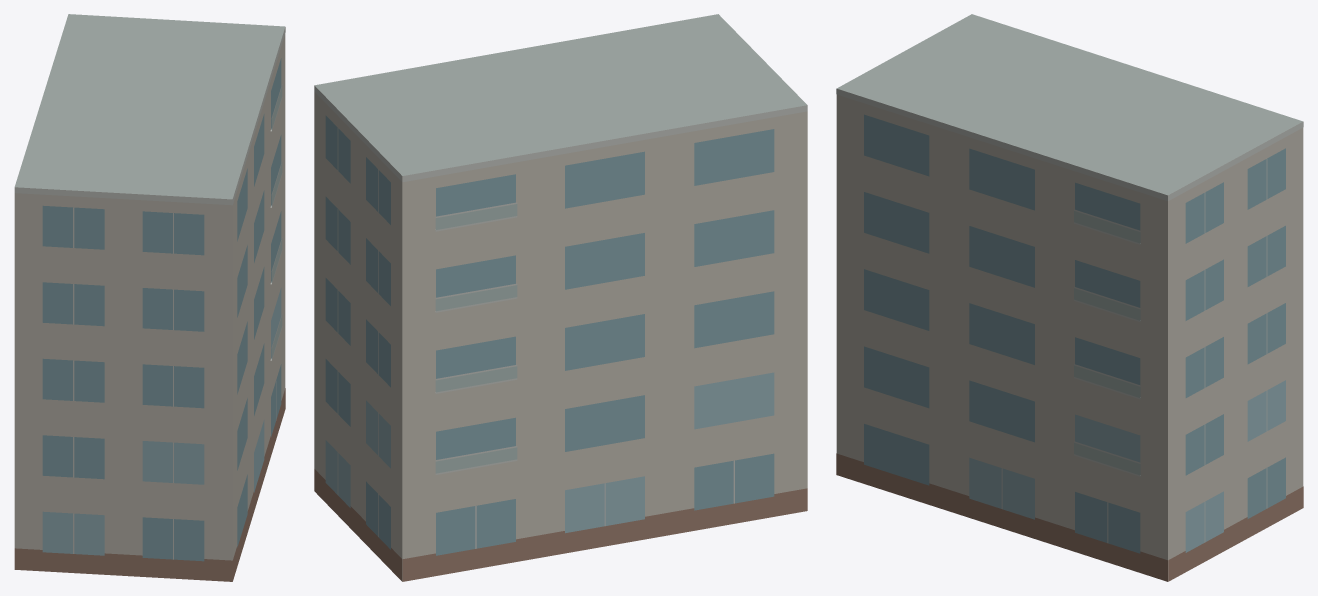
File: survey-upis-32864879.glb
3 renders of one model, left to right at view 1: azimuth 30°, elevation 25°; view 2: azimuth 150°, elevation 25°; view 3: azimuth 270°, elevation 25°, orthographic. The views are drawn at different scales.
Visible parts, largest first — view 1: survey-upis-32864879.tmp; view 2: survey-upis-32864879.tmp; view 3: survey-upis-32864879.tmp.
Boxes of the visible parts, bbox=[...] form: survey-upis-32864879.tmp: bbox=[14, 14, 285, 581]; survey-upis-32864879.tmp: bbox=[314, 14, 807, 581]; survey-upis-32864879.tmp: bbox=[836, 14, 1303, 581].
Size of the model in its own units: 16.12 by 16 by 17.53.
